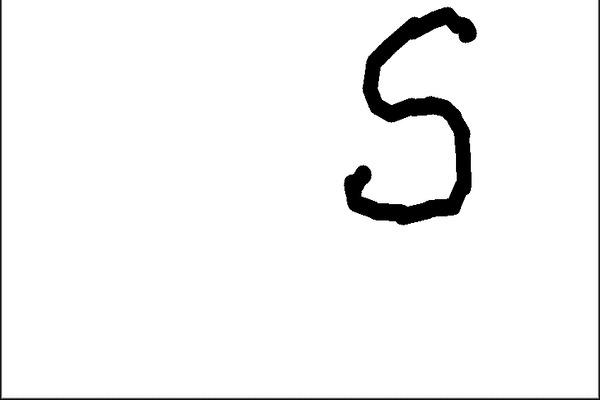S: (331, 2, 494, 240)
